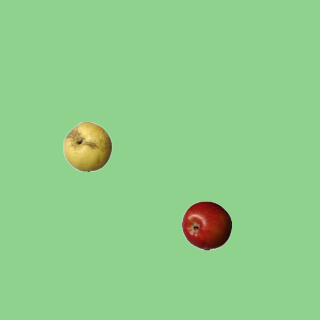Apple Braeburn: (181, 200, 231, 250)
Apple Golden 1: (62, 121, 112, 171)
